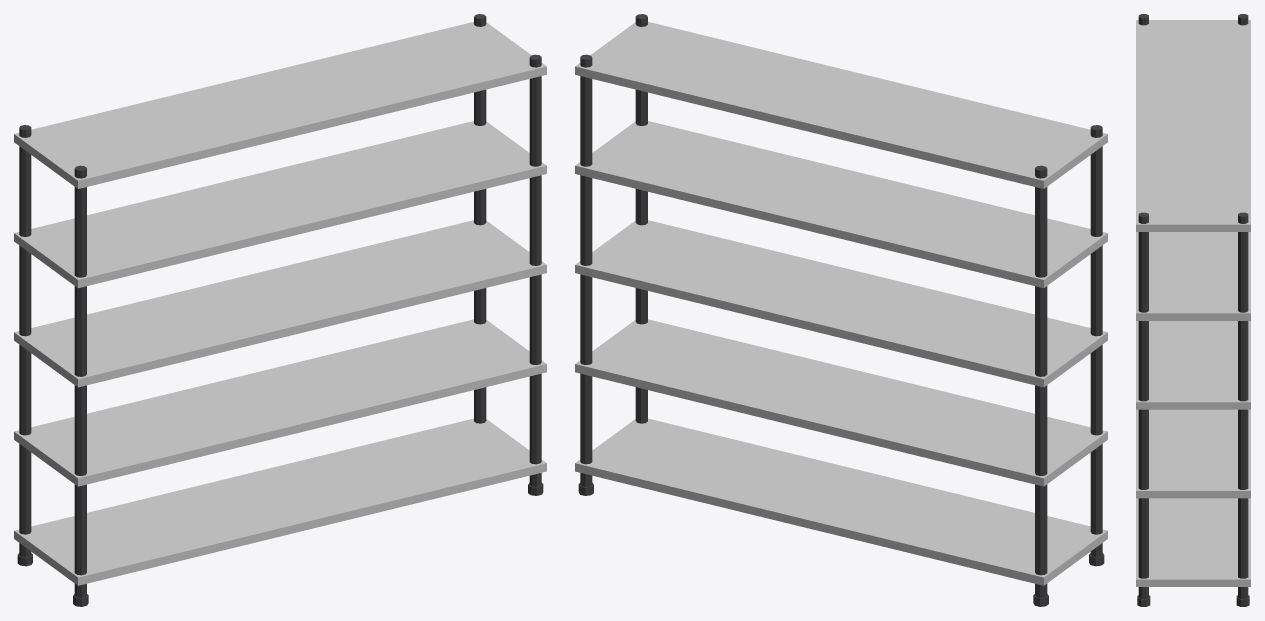
The model's file is SM_Props_Rack_01.fbx.
3 renders of one model, left to right at view 1: azimuth 30°, elevation 25°; view 2: azimuth 150°, elevation 25°; view 3: azimuth 270°, elevation 25°, orthographic. The views are drawn at different scales.
Parts seen in each view (by area): view 1: SM_Props_Rack_01; view 2: SM_Props_Rack_01; view 3: SM_Props_Rack_01.
Part boxes in pixels (box(x1,y1,x2,y2)): SM_Props_Rack_01: box(14, 14, 546, 606); SM_Props_Rack_01: box(575, 14, 1107, 606); SM_Props_Rack_01: box(1136, 14, 1250, 606).
Bounding box in the file's own units: 2.44 × 2.16 × 0.5767.
